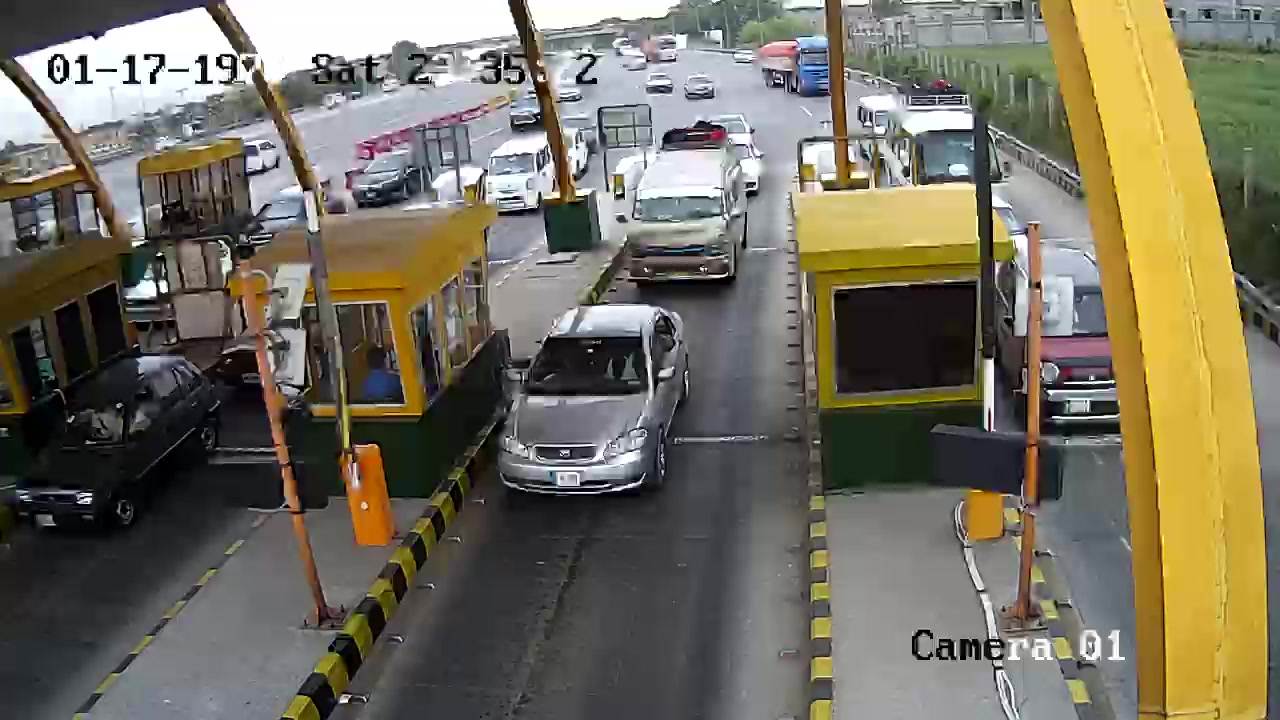F1: (475, 296, 708, 513)
F3: (631, 121, 751, 294)
